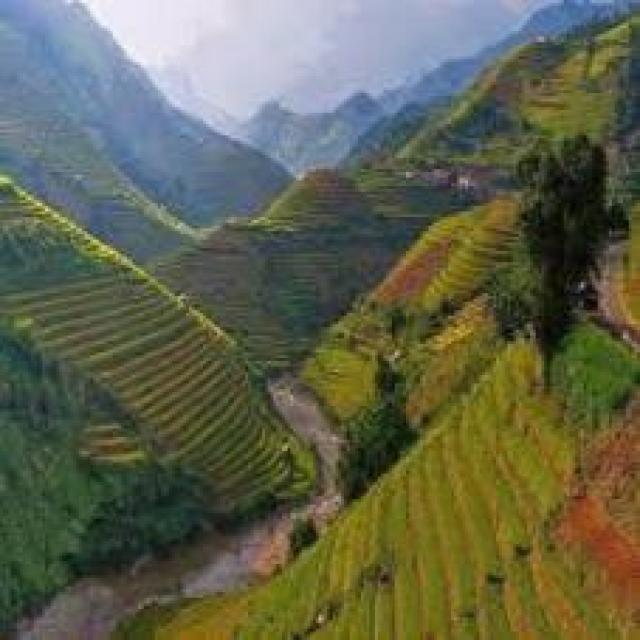upstair: (69, 280, 303, 489)
